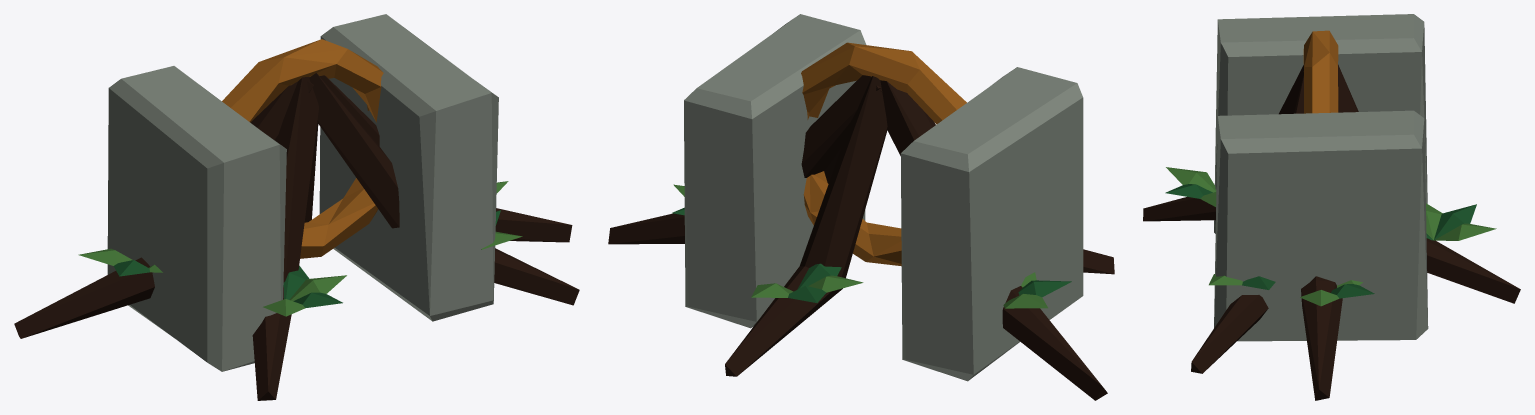
File: Raizes_na_maquina_LOD1.fbx
The picture shows the model from 3 angles, left to right: view 1: azimuth 30°, elevation 25°; view 2: azimuth 150°, elevation 25°; view 3: azimuth 270°, elevation 25°; orthographic projection. The views are drawn at different scales.
Visible parts, largest first — view 1: Raizes_na_maquina_LOD1; view 2: Raizes_na_maquina_LOD1; view 3: Raizes_na_maquina_LOD1.
Part boxes in pixels (<box>): Raizes_na_maquina_LOD1: <box>14,14,579,400</box>; Raizes_na_maquina_LOD1: <box>608,14,1114,400</box>; Raizes_na_maquina_LOD1: <box>1143,14,1520,400</box>.
Bounding box in the file's own units: 392 × 185 × 265.
1 material, 1 textured.
